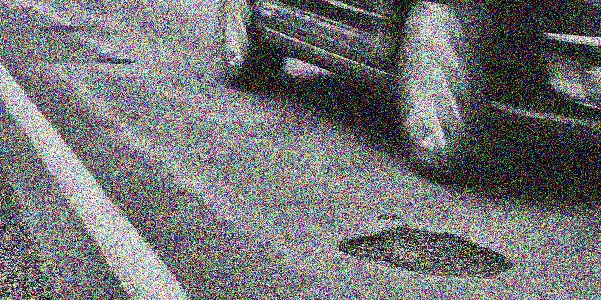pothole: (334, 226, 515, 281)
